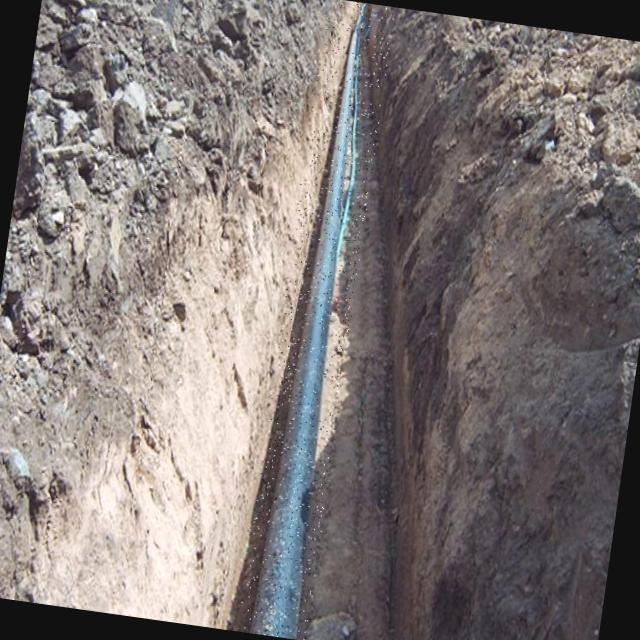gas: (250, 3, 368, 640)
